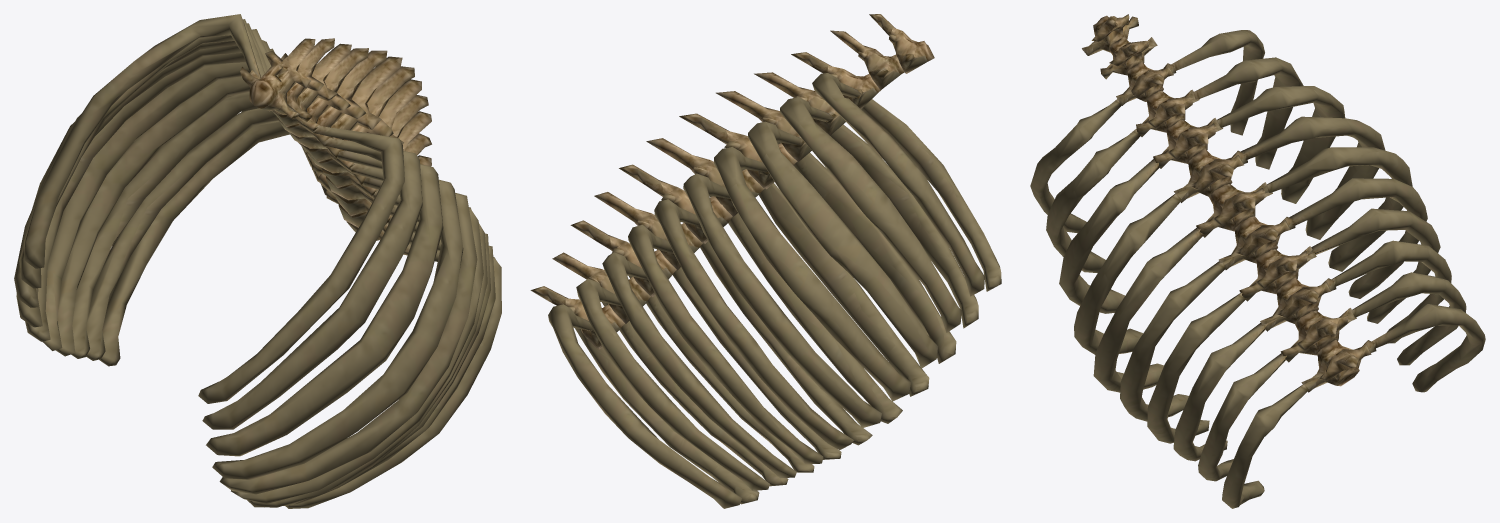
File: O_mdl_env_propWhaleSkeletonB_c-transformed.glb
The picture shows the model from 3 angles, left to right: view 1: azimuth 30°, elevation 25°; view 2: azimuth 150°, elevation 25°; view 3: azimuth 270°, elevation 25°; orthographic projection. The views are drawn at different scales.
Visible parts, largest first — view 1: default; view 2: default; view 3: default.
Boxes of the visible parts, <box> form: default: <box>14,14,501,508</box>; default: <box>530,14,1001,508</box>; default: <box>1030,14,1485,508</box>.
Bounding box in the file's own units: 7.79 × 8.29 × 7.62.
1 material, 1 textured.
